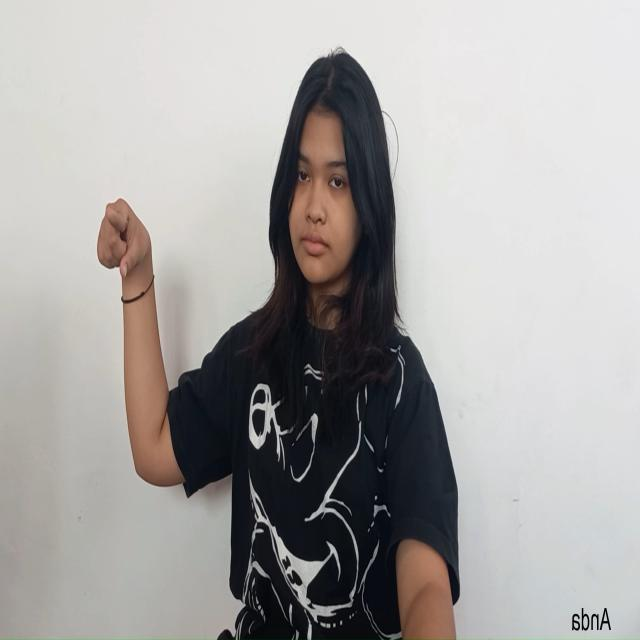Anda -BISINDO-: (96, 194, 153, 302)
